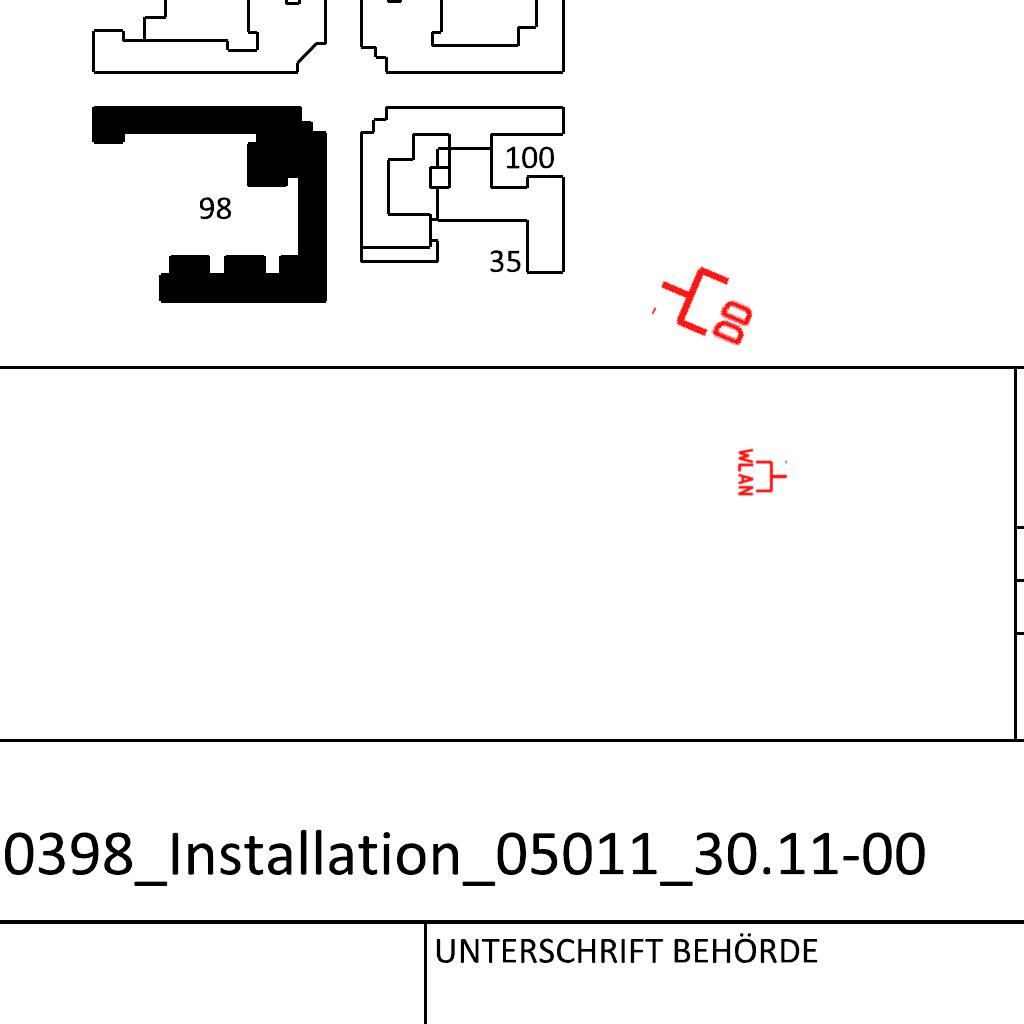Datenanschluss_zweifach: (646, 249, 769, 354)
WLAN: (737, 446, 789, 498)
